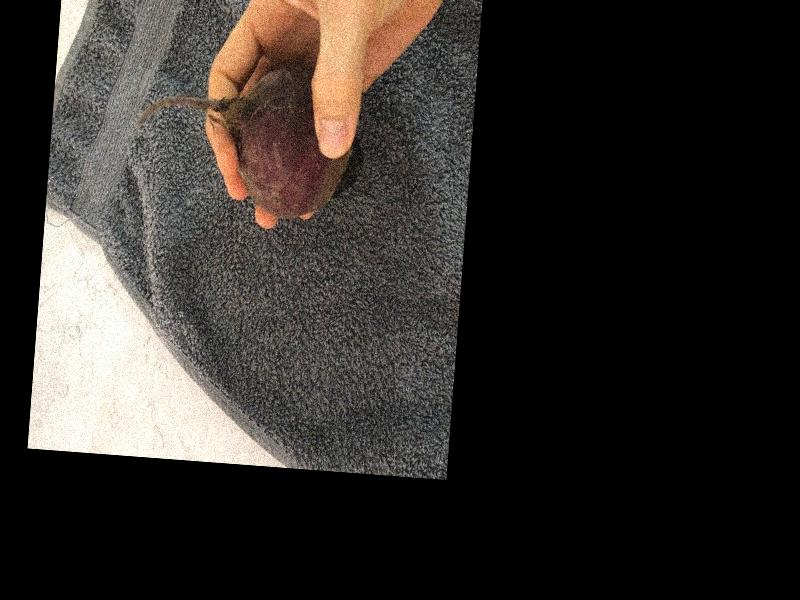Beet: (129, 53, 369, 223)
